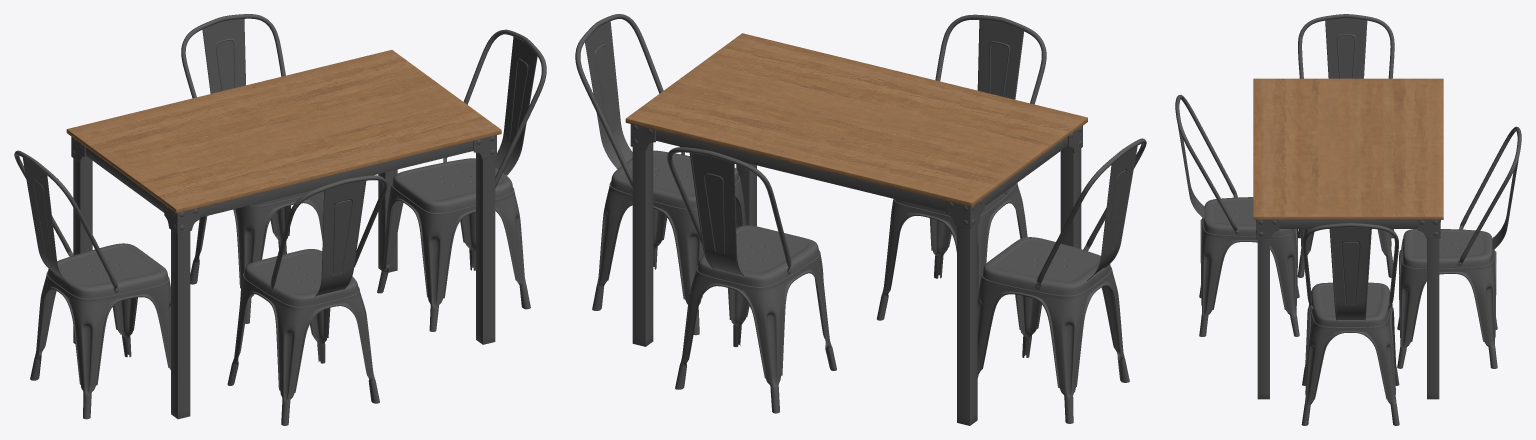
File: DiningSetExteriorTableAndChairSet.glb
3 renders of one model, left to right at view 1: azimuth 30°, elevation 25°; view 2: azimuth 150°, elevation 25°; view 3: azimuth 270°, elevation 25°, orthographic. The views are drawn at different scales.
Parts seen in each view (by area): view 1: Object_2, Object_4, Object_9, Object_8, Object_7, Object_6, Object_3, Object_5, Object_12; view 2: Object_2, Object_4, Object_9, Object_8, Object_5, Object_7, Object_3, Object_6, Object_12; view 3: Object_2, Object_5, Object_9, Object_7, Object_6, Object_4, Object_3, Object_8, Object_12.
Boxes of the visible parts, bbox=[...] form: Object_2: bbox=[66, 50, 501, 213]; Object_4: bbox=[73, 141, 495, 419]; Object_9: bbox=[22, 19, 537, 296]; Object_8: bbox=[30, 243, 170, 419]; Object_7: bbox=[377, 158, 530, 331]; Object_6: bbox=[227, 249, 379, 425]; Object_3: bbox=[14, 14, 546, 294]; Object_5: bbox=[190, 190, 323, 323]; Object_12: bbox=[71, 135, 496, 234]; Object_2: bbox=[625, 33, 1087, 206]; Object_4: bbox=[632, 130, 1081, 425]; Object_9: bbox=[585, 20, 1137, 280]; Object_8: bbox=[977, 237, 1129, 423]; Object_5: bbox=[675, 225, 836, 413]; Object_7: bbox=[592, 150, 745, 335]; Object_3: bbox=[575, 14, 1146, 289]; Object_6: bbox=[877, 183, 1027, 320]; Object_12: bbox=[630, 124, 1082, 229]; Object_2: bbox=[1253, 78, 1443, 219]; Object_5: bbox=[1397, 229, 1497, 368]; Object_9: bbox=[1178, 18, 1518, 320]; Object_7: bbox=[1301, 282, 1399, 425]; Object_6: bbox=[1199, 197, 1299, 336]; Object_4: bbox=[1235, 220, 1461, 399]; Object_3: bbox=[1175, 14, 1521, 311]; Object_8: bbox=[1297, 229, 1394, 277]; Object_12: bbox=[1256, 220, 1440, 238].
Size of the model in its own units: 1.83 by 0.8602 by 1.27.
2 materials, 1 textured.
